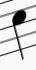note: (9, 0, 30, 63)
